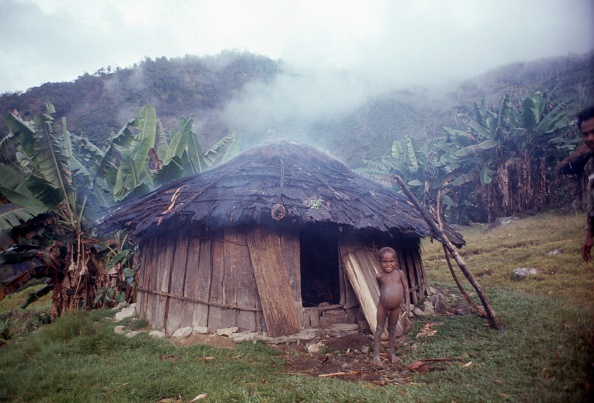em pe: (351, 230, 413, 351)
